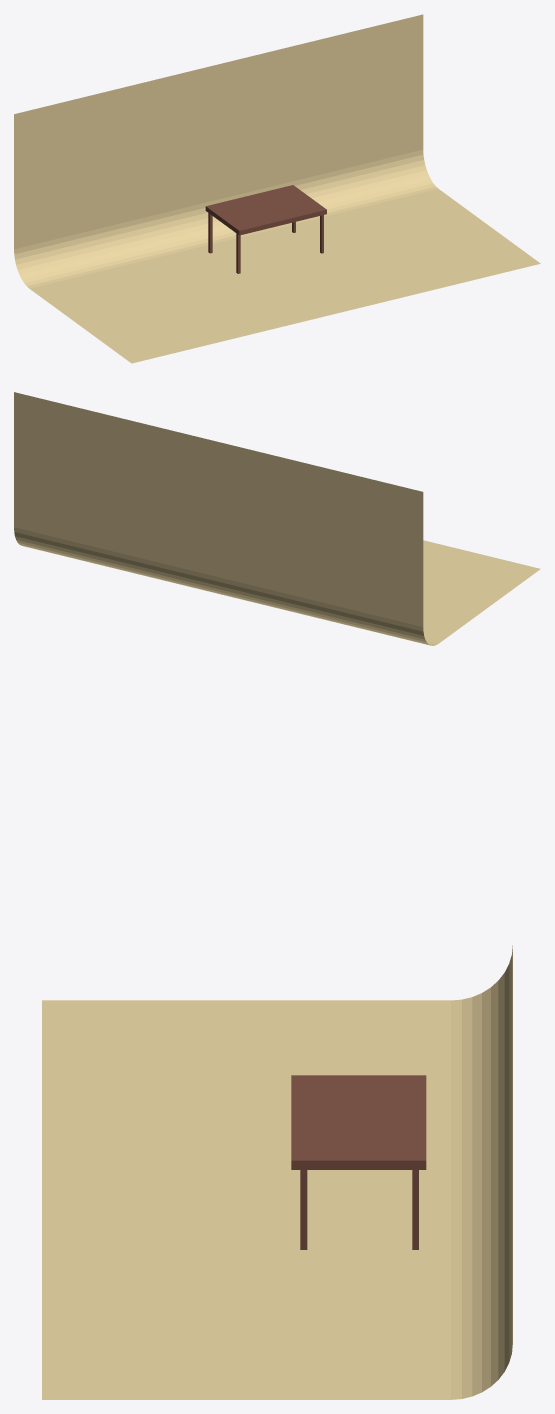
The model's file is bgMeja.gltf.
3 views of the same model, one above another, from view 1: azimuth 30°, elevation 25°; view 2: azimuth 150°, elevation 25°; view 3: azimuth 270°, elevation 25° (orthographic). The views are drawn at different scales.
Parts seen in each view (by area): view 1: Bg, meja; view 2: Bg; view 3: Bg, meja.
Boxes of the visible parts, left/top/right/bottom form: Bg: left=14, top=14, right=540, bottom=363; meja: left=205, top=185, right=326, bottom=273; Bg: left=14, top=392, right=540, bottom=645; Bg: left=42, top=945, right=512, bottom=1399; meja: left=291, top=1075, right=426, bottom=1249.
Size of the model in its own units: 40.15 by 15.3 by 20.
